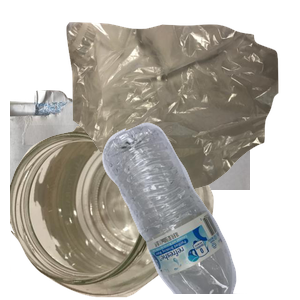glass: (10, 126, 216, 300)
paper: (10, 84, 250, 264)
plastic: (100, 120, 300, 300)
trash: (64, 20, 300, 200)
